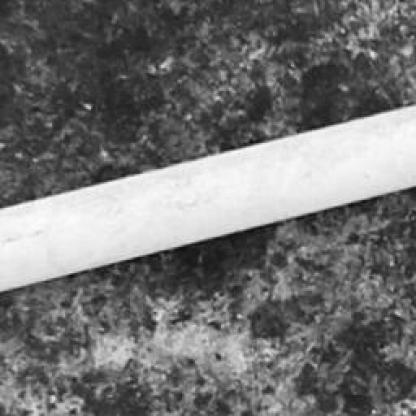PVC: (0, 106, 414, 294)
